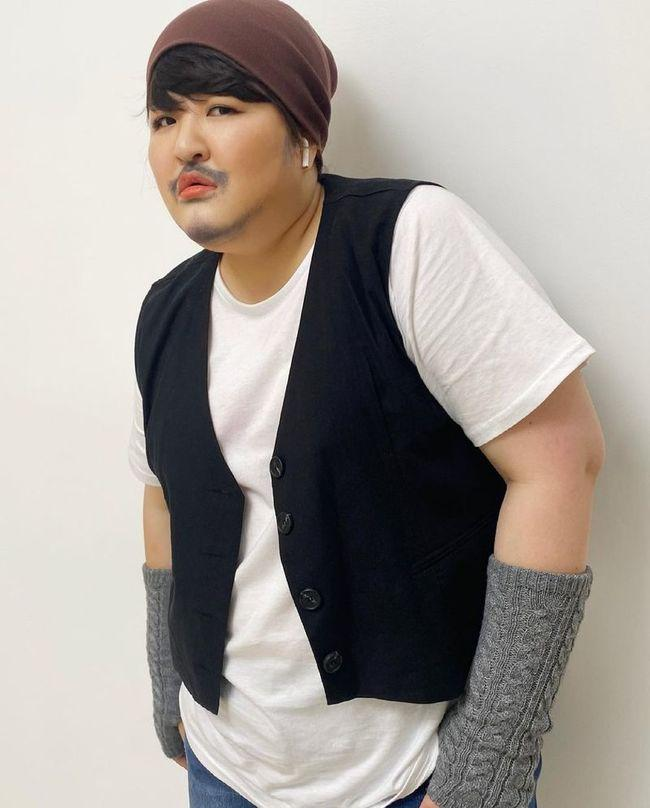earphone: (285, 125, 321, 172)
